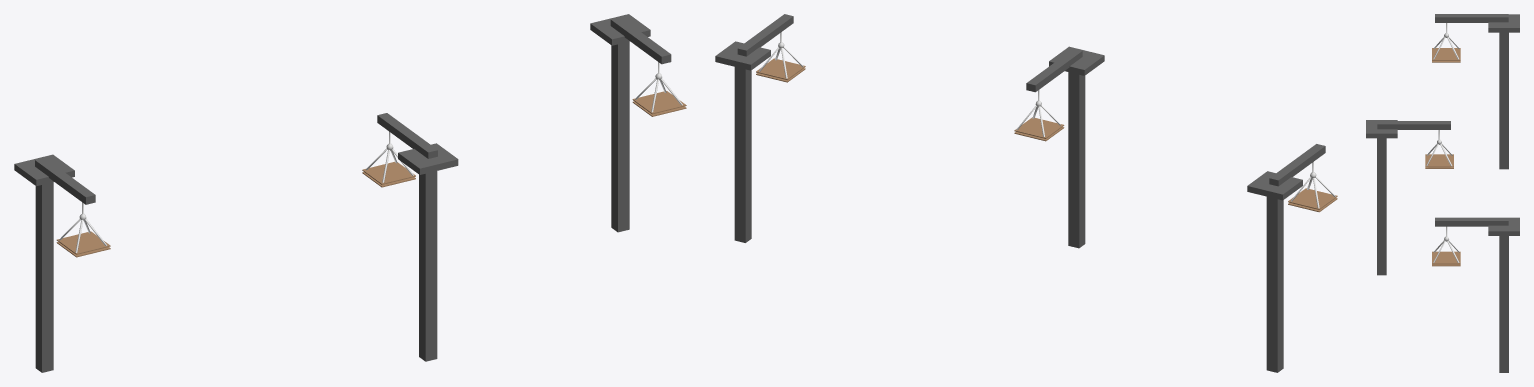
The model's file is vincs.fbx.
The picture shows the model from 3 angles, left to right: view 1: azimuth 30°, elevation 25°; view 2: azimuth 150°, elevation 25°; view 3: azimuth 270°, elevation 25°; orthographic projection. The views are drawn at different scales.
Visible parts, largest first — view 1: vinc_1, vinc, vinc_2; view 2: vinc, vinc_2, vinc_1; view 3: vinc, vinc_2, vinc_1.
Boxes of the visible parts, <box> form: vinc_1: <box>362,113,458,361</box>; vinc: <box>590,14,686,232</box>; vinc_2: <box>14,154,110,372</box>; vinc: <box>715,14,805,242</box>; vinc_2: <box>1247,144,1337,372</box>; vinc_1: <box>1014,46,1104,248</box>; vinc: <box>1432,217,1519,372</box>; vinc_2: <box>1432,14,1519,169</box>; vinc_1: <box>1366,120,1453,275</box>.
Bounding box in the file's own units: 22379 × 7257 × 6704.
